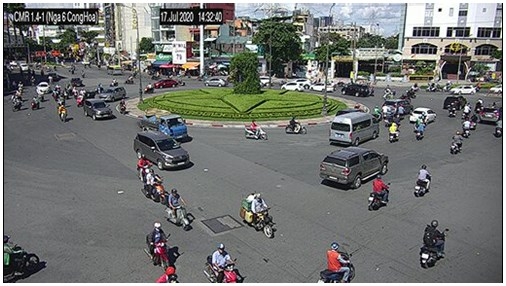xe_hoi: (320, 147, 388, 189), (134, 132, 189, 170), (84, 99, 112, 121), (410, 108, 435, 124), (100, 86, 126, 101), (340, 85, 370, 98), (450, 85, 477, 95), (309, 82, 333, 92), (280, 82, 304, 91), (155, 79, 177, 88), (205, 78, 226, 87), (36, 82, 50, 93), (70, 78, 83, 87)
xe_khach: (329, 113, 379, 145)
xe_may: (3, 236, 40, 282), (317, 243, 355, 282), (241, 193, 273, 238), (206, 244, 238, 284), (420, 219, 445, 269), (145, 222, 168, 268), (164, 188, 189, 230), (141, 169, 166, 204), (369, 175, 390, 211), (414, 164, 431, 198), (245, 120, 267, 141), (285, 116, 307, 135), (450, 131, 464, 154), (389, 119, 401, 144), (413, 117, 425, 142), (471, 109, 480, 131), (58, 104, 67, 123), (462, 101, 471, 119), (373, 105, 383, 121), (11, 94, 20, 111), (382, 104, 391, 121), (448, 101, 458, 116), (496, 117, 503, 138), (31, 94, 40, 110), (119, 98, 127, 115), (76, 92, 85, 107), (462, 116, 468, 138), (144, 82, 154, 94), (426, 83, 439, 92), (62, 85, 69, 100), (396, 103, 404, 116), (125, 75, 135, 85), (405, 88, 415, 97), (52, 87, 58, 100), (111, 78, 119, 87)
xe_tai: (136, 108, 188, 140)
